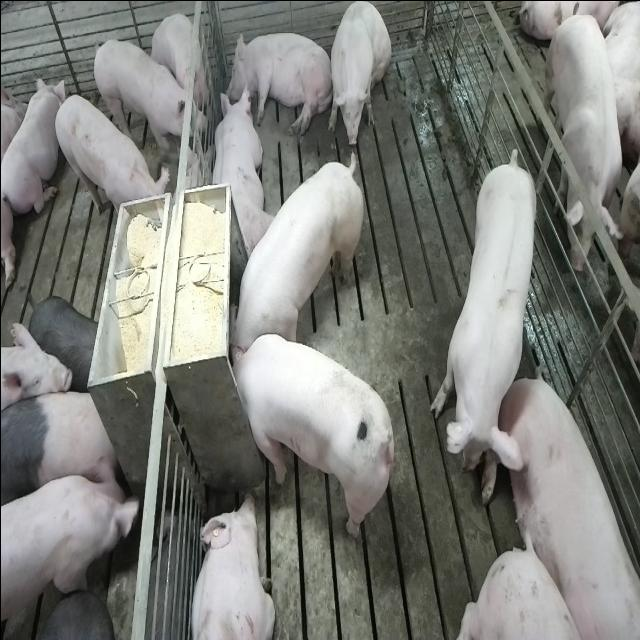Feeding: (220, 333, 390, 538), (230, 148, 366, 360)
Lateral_lying: (222, 28, 334, 140)
Sitting: (326, 0, 390, 146)
Standing: (426, 145, 534, 482), (536, 8, 630, 287), (2, 456, 142, 640), (52, 91, 168, 232), (2, 386, 125, 510), (92, 34, 202, 152), (24, 590, 114, 640)
Sternal_lying: (187, 491, 276, 640), (208, 85, 270, 262), (2, 74, 61, 222)
